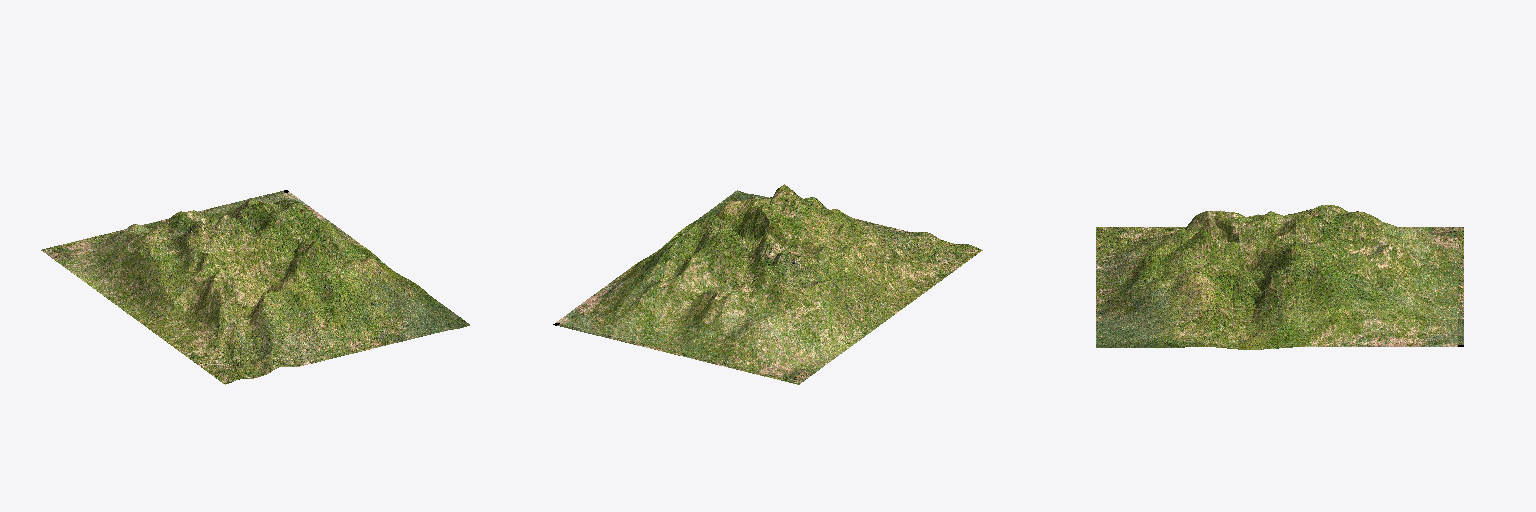
The picture shows the model from 3 angles: view 1: azimuth 30°, elevation 25°; view 2: azimuth 150°, elevation 25°; view 3: azimuth 270°, elevation 25°; orthographic projection.
Visible parts, largest first — view 1: mount_blend1:Mesh; view 2: mount_blend1:Mesh; view 3: mount_blend1:Mesh.
Part boxes in pixels (x1,y1,x2,y2): mount_blend1:Mesh: (41,190,469,384); mount_blend1:Mesh: (553,184,982,384); mount_blend1:Mesh: (1096,205,1463,349).
Size of the model in its own units: 6.47 by 1.88 by 8.39.
Materials: 1 (1 with a texture image).